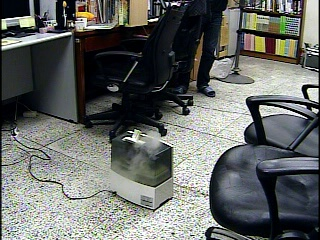smoke: (115, 129, 164, 175)
